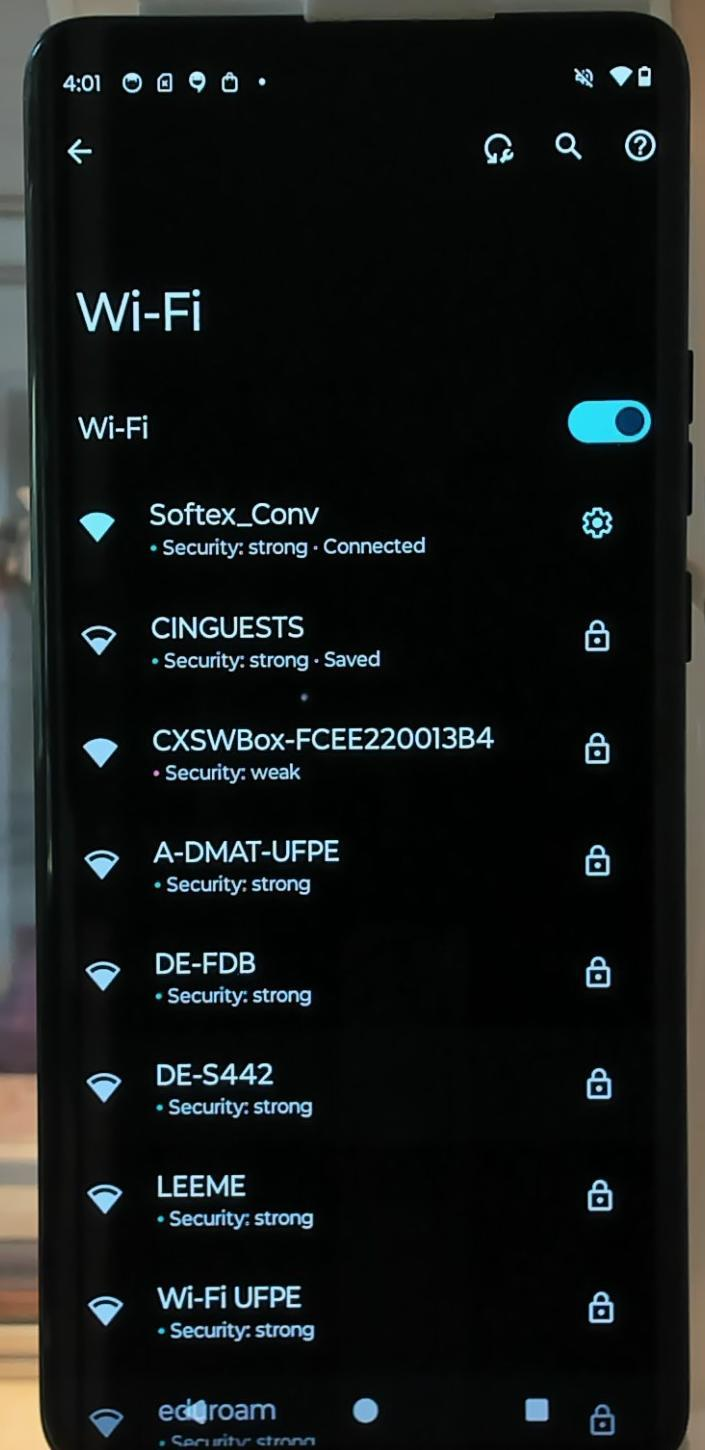Checkbox: (553, 388, 659, 454)
CommunBotton: (71, 711, 514, 793), (70, 490, 442, 567), (69, 601, 393, 682), (77, 830, 348, 915), (73, 1273, 319, 1351), (73, 1053, 322, 1130), (78, 941, 320, 1017), (78, 1163, 321, 1237), (476, 120, 518, 180), (617, 120, 663, 173), (55, 126, 101, 176), (548, 120, 590, 174), (178, 1381, 212, 1435), (344, 1387, 345, 1388)
